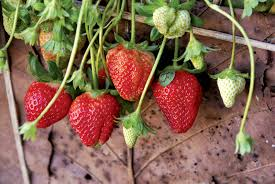Fresa: (150, 62, 208, 138), (104, 34, 160, 103), (66, 82, 122, 150), (21, 69, 74, 132)
